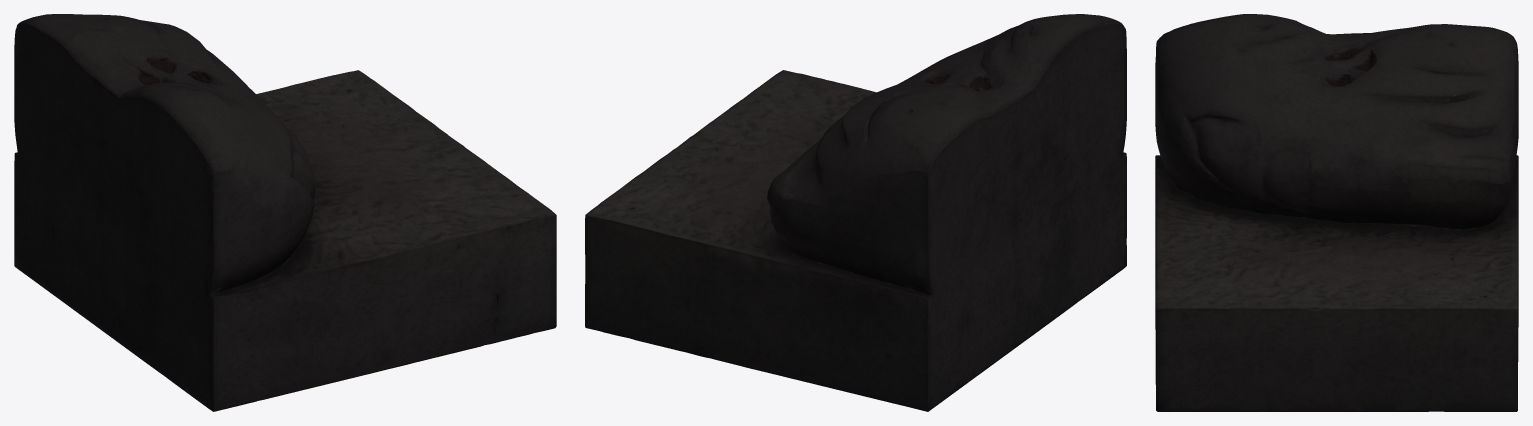
The picture shows the model from 3 angles, left to right: view 1: azimuth 30°, elevation 25°; view 2: azimuth 150°, elevation 25°; view 3: azimuth 270°, elevation 25°; orthographic projection. The views are drawn at different scales.
Visible parts, largest first — view 1: world; view 2: world; view 3: world.
Boxes of the visible parts, box(x1,y1,x2,y2) form: world: box(14, 14, 556, 411); world: box(585, 14, 1126, 411); world: box(1155, 14, 1518, 411).
Bounding box in the file's own units: 1.2 × 0.9149 × 1.2.
1 material, 1 textured.
